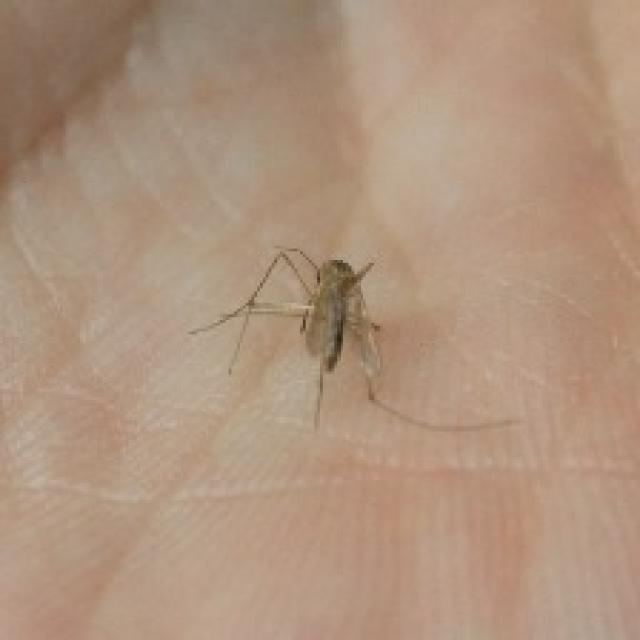culex: (186, 243, 520, 434)
